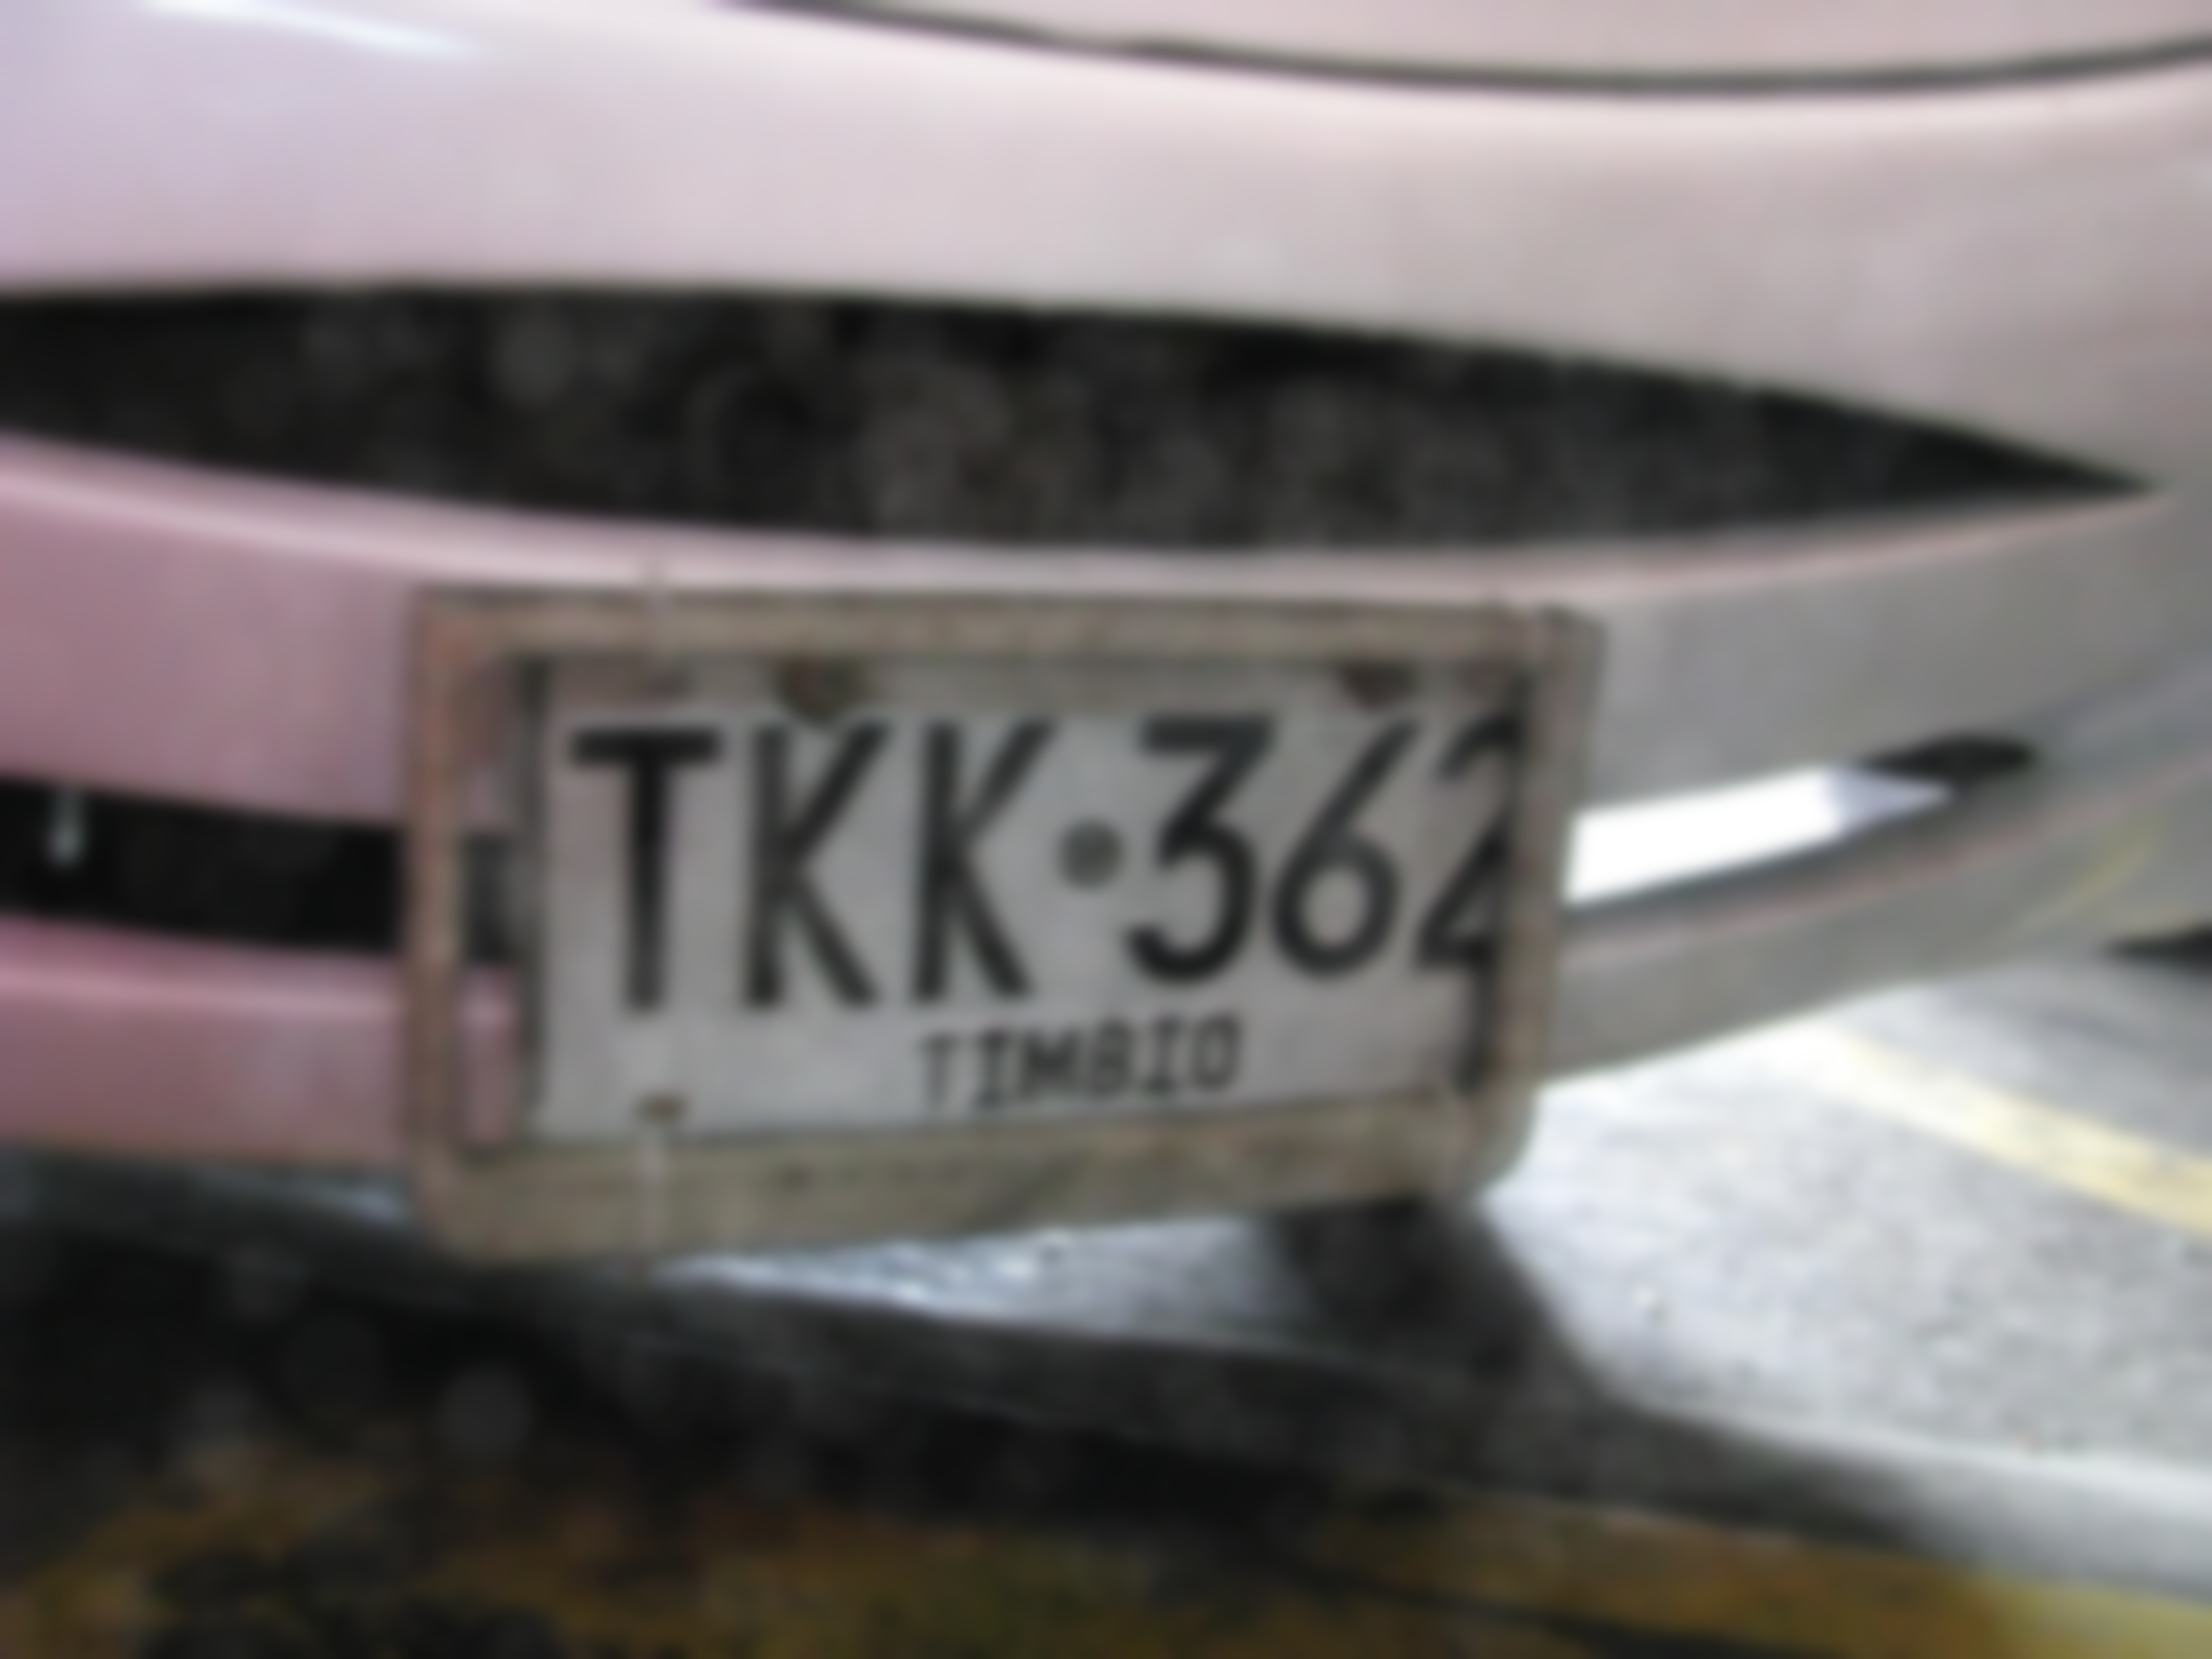placas: (506, 651, 1525, 1162)
